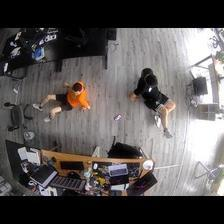fall: (129, 69, 179, 139), (31, 79, 91, 119)
